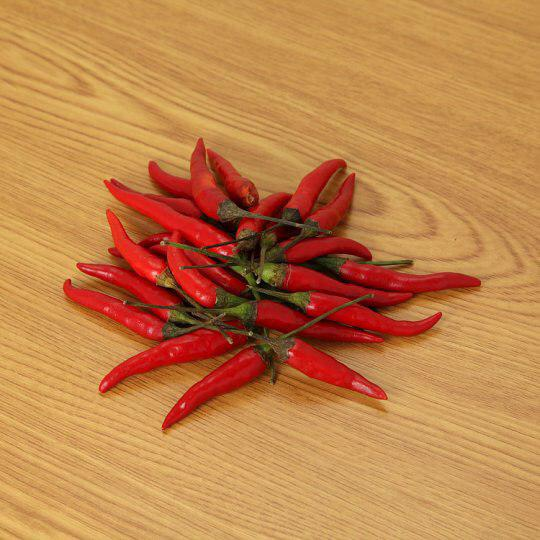lada merah: (95, 321, 242, 406), (96, 178, 243, 259), (50, 275, 186, 348), (163, 348, 267, 435), (259, 331, 384, 401), (274, 285, 447, 329), (320, 253, 486, 296), (180, 133, 242, 223), (282, 150, 355, 222), (103, 213, 166, 287), (199, 140, 265, 210), (168, 237, 227, 313), (268, 231, 379, 268), (147, 151, 194, 204)
